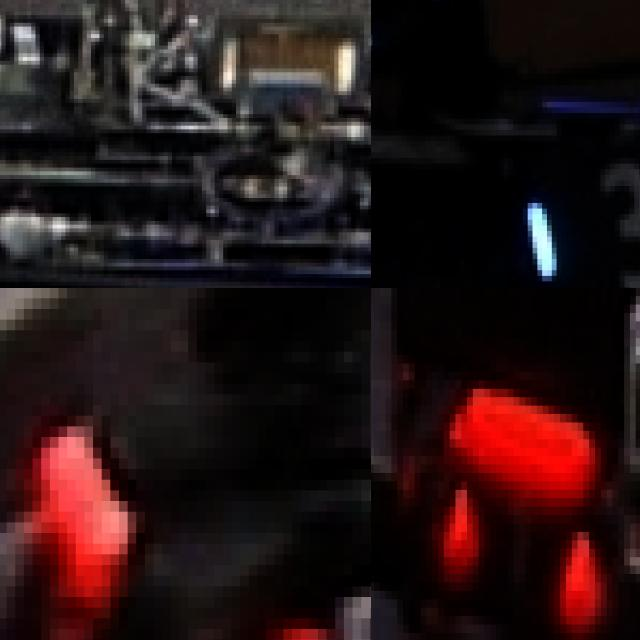B3: (518, 147, 640, 288)
R1: (444, 482, 601, 624)
R5: (248, 565, 371, 640)
